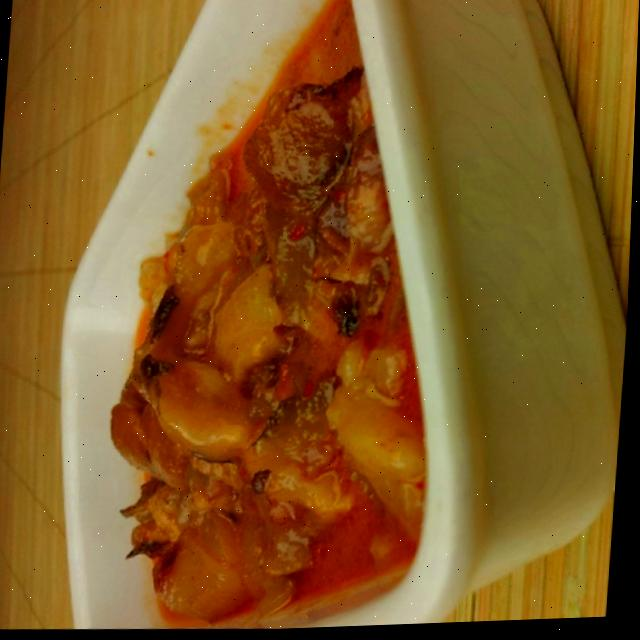熟制海鲜: (2, 0, 639, 639)
